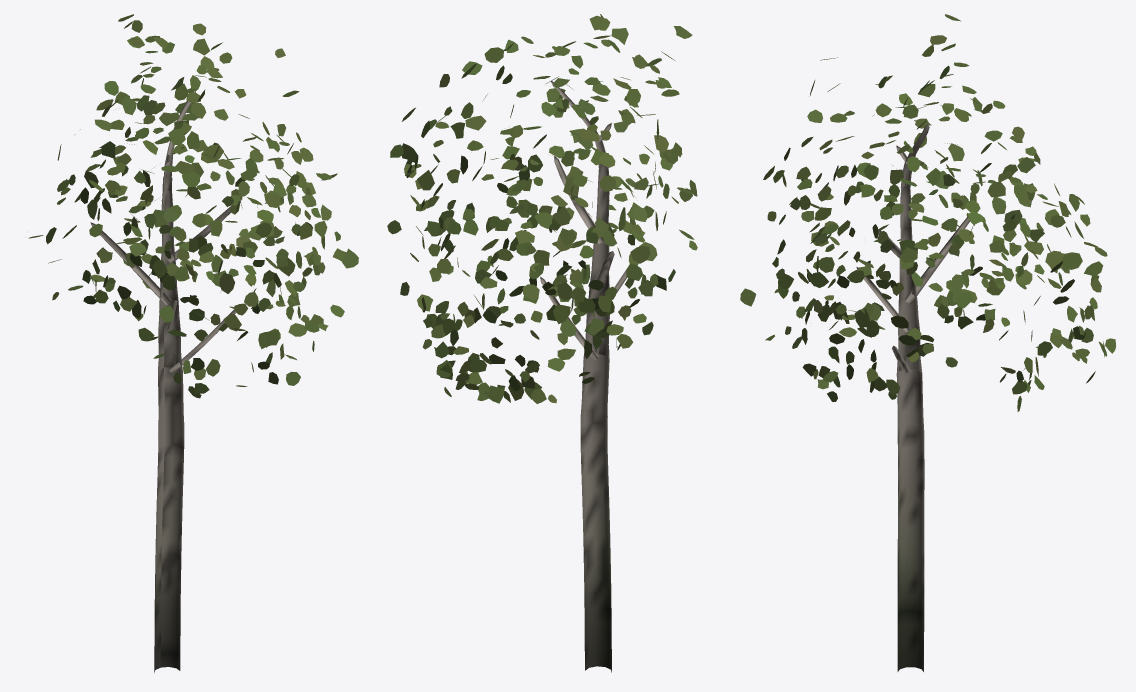
Rendered from SM_TreeFar_birch_2.glb.
The picture shows the model from 3 angles, left to right: view 1: azimuth 30°, elevation 25°; view 2: azimuth 150°, elevation 25°; view 3: azimuth 270°, elevation 25°; orthographic projection. The views are drawn at different scales.
Parts seen in each view (by area): view 1: SM_TreeFar_birch_2; view 2: SM_TreeFar_birch_2; view 3: SM_TreeFar_birch_2.
Part boxes in pixels (x1=…): SM_TreeFar_birch_2: x1=28, y1=14, x2=358, y2=672; SM_TreeFar_birch_2: x1=387, y1=14, x2=697, y2=672; SM_TreeFar_birch_2: x1=740, y1=14, x2=1115, y2=671.
Size of the model in its own units: 4.95 by 11.94 by 6.37.
